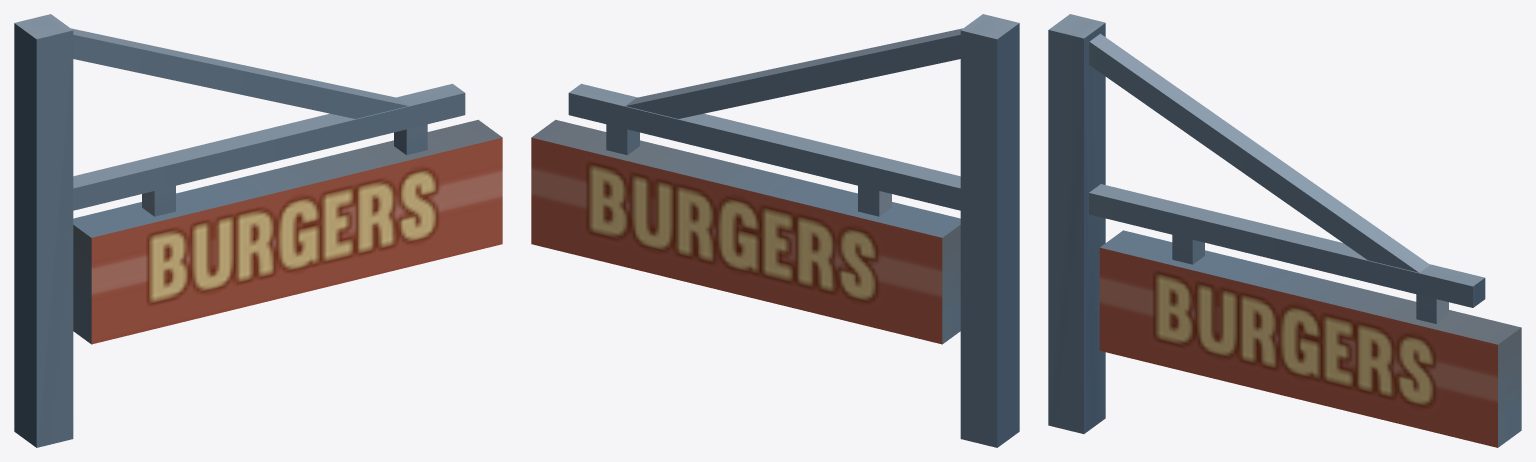
The model's file is SM_Sign_Burgers_01.fbx.
3 renders of one model, left to right at view 1: azimuth 30°, elevation 25°; view 2: azimuth 150°, elevation 25°; view 3: azimuth 330°, elevation 25°, orthographic. The views are drawn at different scales.
Parts seen in each view (by area): view 1: SM_Sign_Burgers_01; view 2: SM_Sign_Burgers_01; view 3: SM_Sign_Burgers_01.
Part boxes in pixels (left/top/right/bottom): SM_Sign_Burgers_01: left=14, top=14, right=502, bottom=447; SM_Sign_Burgers_01: left=531, top=14, right=1019, bottom=447; SM_Sign_Burgers_01: left=1048, top=14, right=1521, bottom=447.
Size of the model in its own units: 2.35 by 1.97 by 0.2137.
